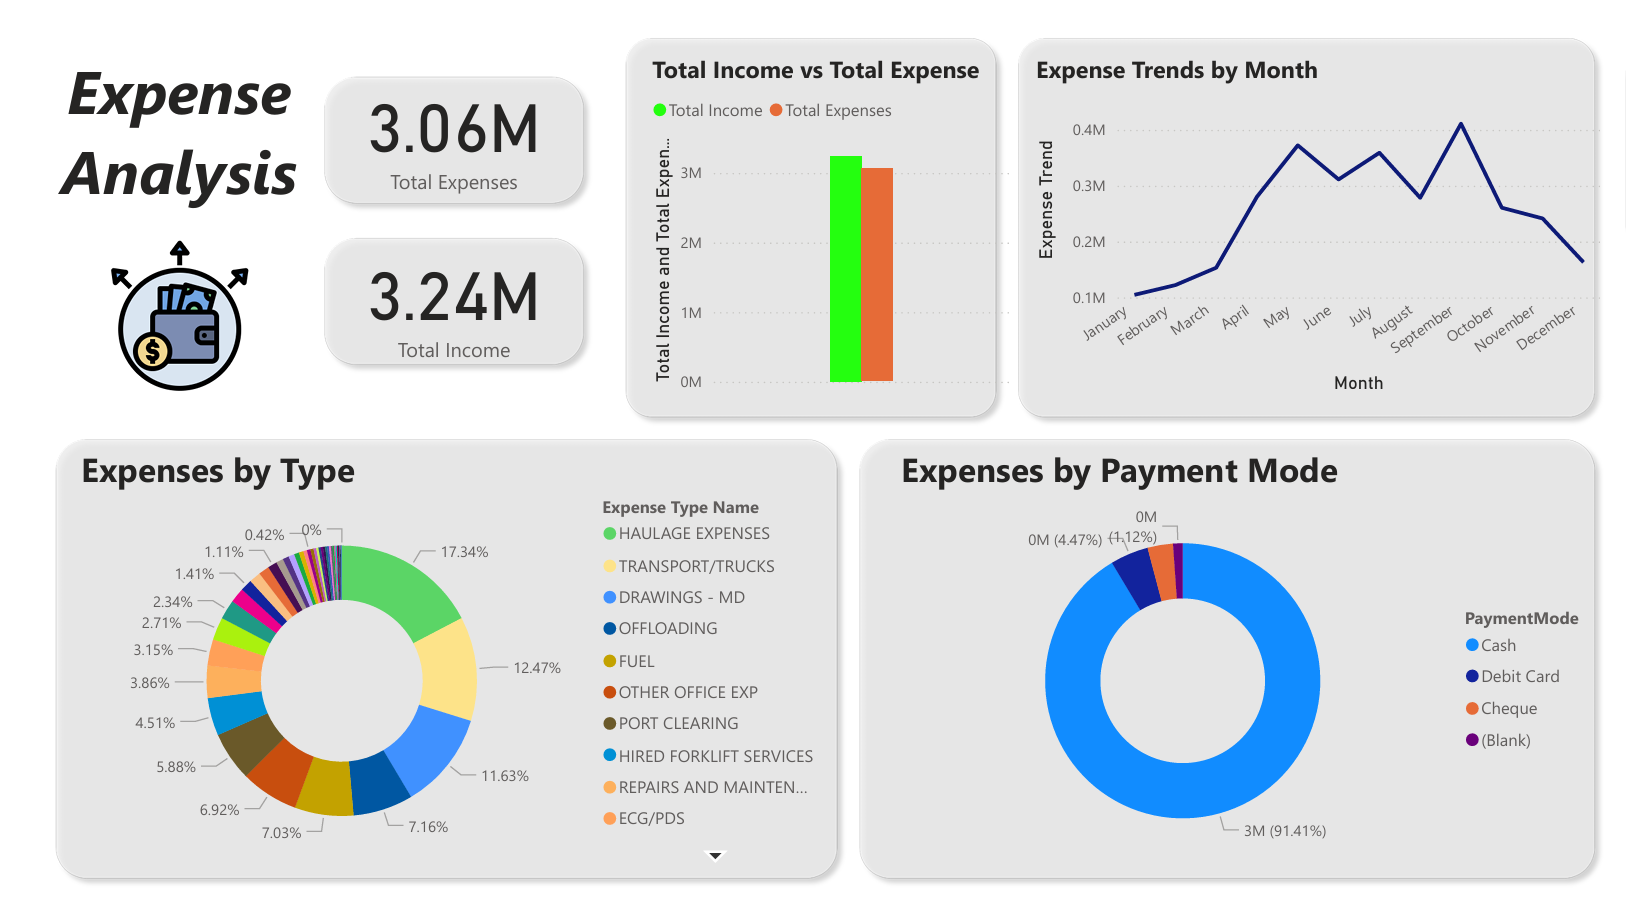

The page's visual inventory and layout, read from the dashboard file:
{"tool":"powerbi","page":{"name":"Page 1","canvas":[1280,720],"ordinal":0},"visuals":[{"type":"shape","box":[657.5,321.2,606.2,368.8],"z":0},{"type":"shape","box":[15,321.2,642.5,368.8],"z":1000},{"type":"shape","box":[785,0,478.8,321.2],"z":2000},{"type":"shape","box":[471.2,0,313.8,321.2],"z":3000},{"type":"donutChart","title":"Expenses by Type","fields":{"Y":["ExpenseType.Expenses by Type"],"Category":["ExpenseType.ExpenseTypeName"]},"box":[38.8,335,606.2,341.2],"z":4000},{"type":"donutChart","title":"Expenses by Payment Mode ","fields":{"Category":["Payment Mode.PaymentMode"],"Y":["Expense.Expenses by Payment Mode"]},"box":[695,335,568.8,341.2],"z":5000},{"type":"lineChart","title":"Expense Trends by Month","fields":{"Y":["Expense.Expense Trend"],"Category":["Expense.ExpenseDate.Variation.Date Hierarchy.Month"]},"box":[802.5,21.2,461.2,276.2],"z":6000},{"type":"clusteredColumnChart","title":"Total Income vs Total Expense","fields":{"Y":["Income.Total Income","Expense.Total Expense"]},"box":[496.2,21.2,297.5,276.2],"z":7000},{"type":"textbox","box":[15,12.5,215,143.8],"z":8000},{"type":"shape","box":[230,160,225,118.8],"z":9000},{"type":"card","fields":{"Values":["Income.Total Income"]},"box":[236.2,160,212.5,118.8],"z":10000},{"type":"shape","box":[230,31.2,225,118.8],"z":11000},{"type":"card","fields":{"Values":["Expense.Total Expense"]},"box":[230,28.8,225,112.5],"z":12000},{"type":"image","box":[55,161.2,136.2,141.2],"z":13000}]}

Visuals, with their boxes in screenshot pixels (x1, y1, x2, y2), scaled from the page's 1280x720 canvas onto the 1652x912 screenshot:
shape: bbox=[849, 407, 1631, 874]
shape: bbox=[19, 407, 849, 874]
shape: bbox=[1013, 0, 1631, 407]
shape: bbox=[608, 0, 1013, 407]
"Expenses by Type" donutChart: bbox=[50, 424, 832, 857]
"Expenses by Payment Mode " donutChart: bbox=[897, 424, 1631, 857]
"Expense Trends by Month" lineChart: bbox=[1036, 27, 1631, 377]
"Total Income vs Total Expense" clusteredColumnChart: bbox=[640, 27, 1024, 377]
textbox: bbox=[19, 16, 297, 198]
shape: bbox=[297, 203, 587, 353]
card - Income.Total Income: bbox=[305, 203, 579, 353]
shape: bbox=[297, 40, 587, 190]
card - Expense.Total Expense: bbox=[297, 36, 587, 179]
image: bbox=[71, 204, 247, 383]
